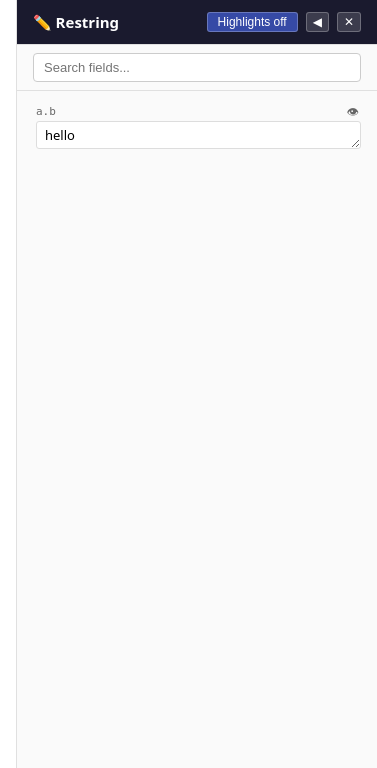
RestringSidebar › shows empty search state
The image size is (377, 768).
Type "zzzznonexistent" into the search field labelled "Search fields". click: point(197, 68)
box: x1=33 y1=53 x2=361 y2=82
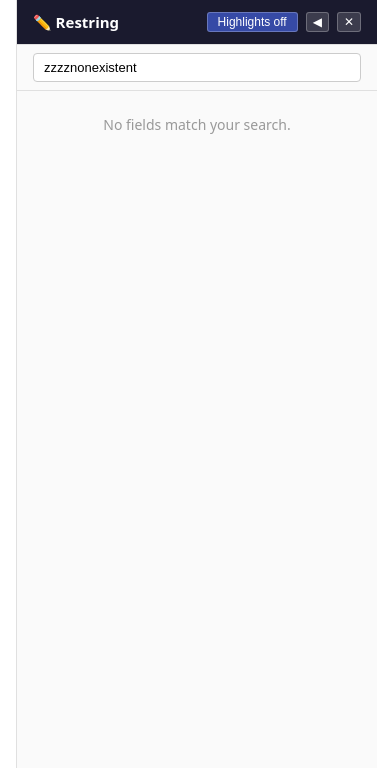
Check: the text "No fields match your search." is shown, box x1=103 y1=115 x2=291 y2=134
